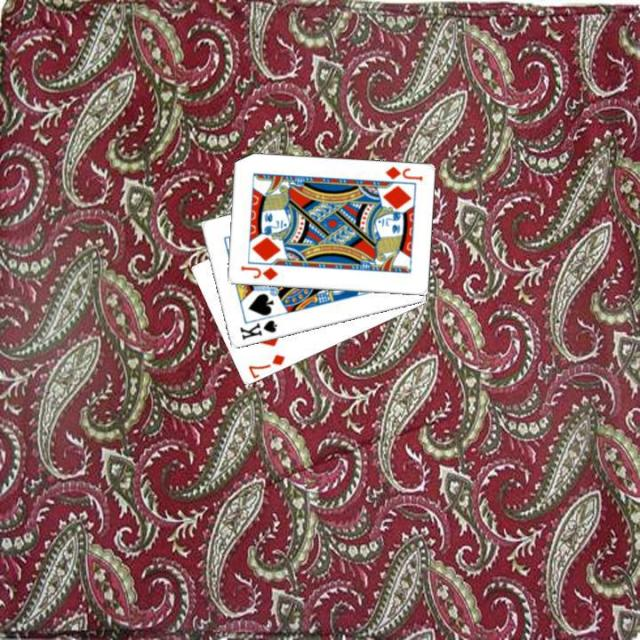7D: (245, 350, 287, 380)
JD: (236, 262, 280, 283), (381, 163, 424, 182)
KS: (236, 316, 279, 342)
